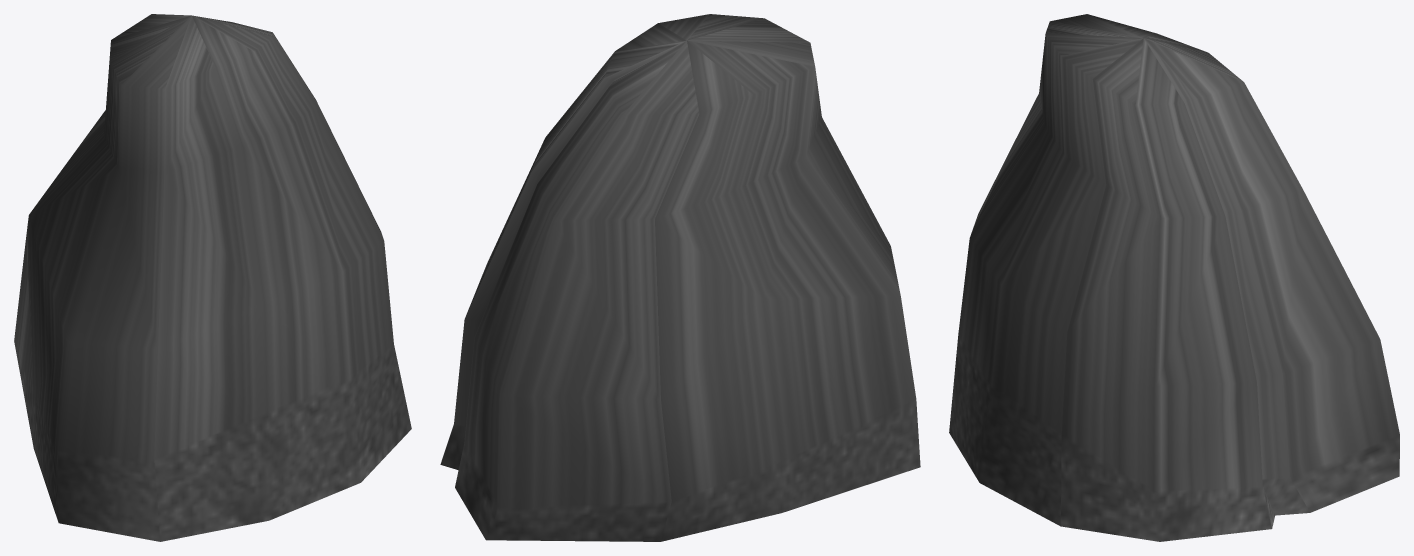
Rendered from HellWaterfallStoneA.obj.
3 views of the same model, side by side, from view 1: azimuth 30°, elevation 25°; view 2: azimuth 150°, elevation 25°; view 3: azimuth 270°, elevation 25° (orthographic). The views are drawn at different scales.
Parts seen in each view (by area): view 1: mesh-38.000_meshId38_name.000; view 2: mesh-38.000_meshId38_name.000; view 3: mesh-38.000_meshId38_name.000.
Part boxes in pixels (left/top/right/bottom): mesh-38.000_meshId38_name.000: left=14, top=14, right=411, bottom=541; mesh-38.000_meshId38_name.000: left=440, top=14, right=920, bottom=541; mesh-38.000_meshId38_name.000: left=949, top=14, right=1399, bottom=541.
Bounding box in the file's own units: 422 × 433 × 436.
Materials: 1 (1 with a texture image).
